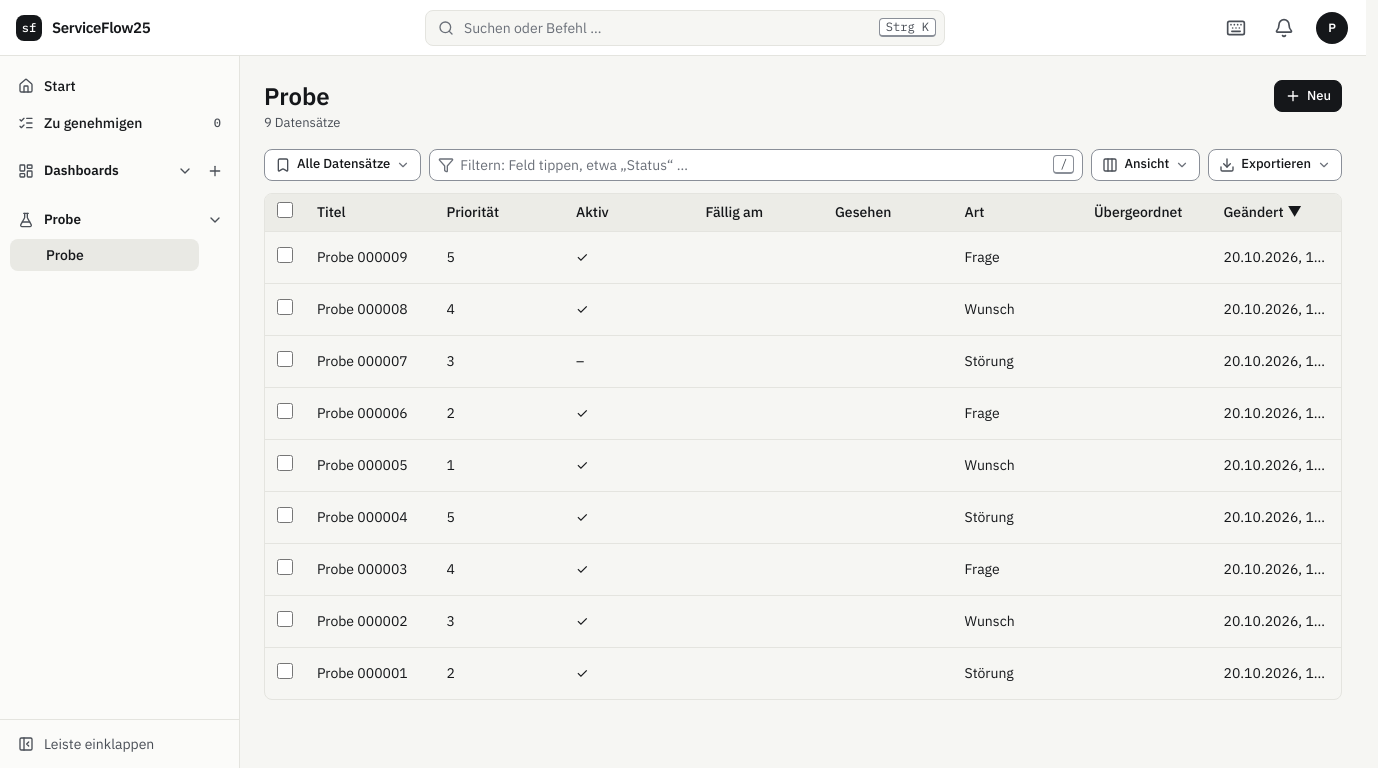
Test: FilterRow › takes roles with mir and periods as time words
Expected: the text "9 Datensätze" is shown, [264,114,340,133]
Click the dropdown with placeholder "Filtern: Feld tippen, etwa „Status“ …".
click(755, 165)  # box [460,150,1049,180]
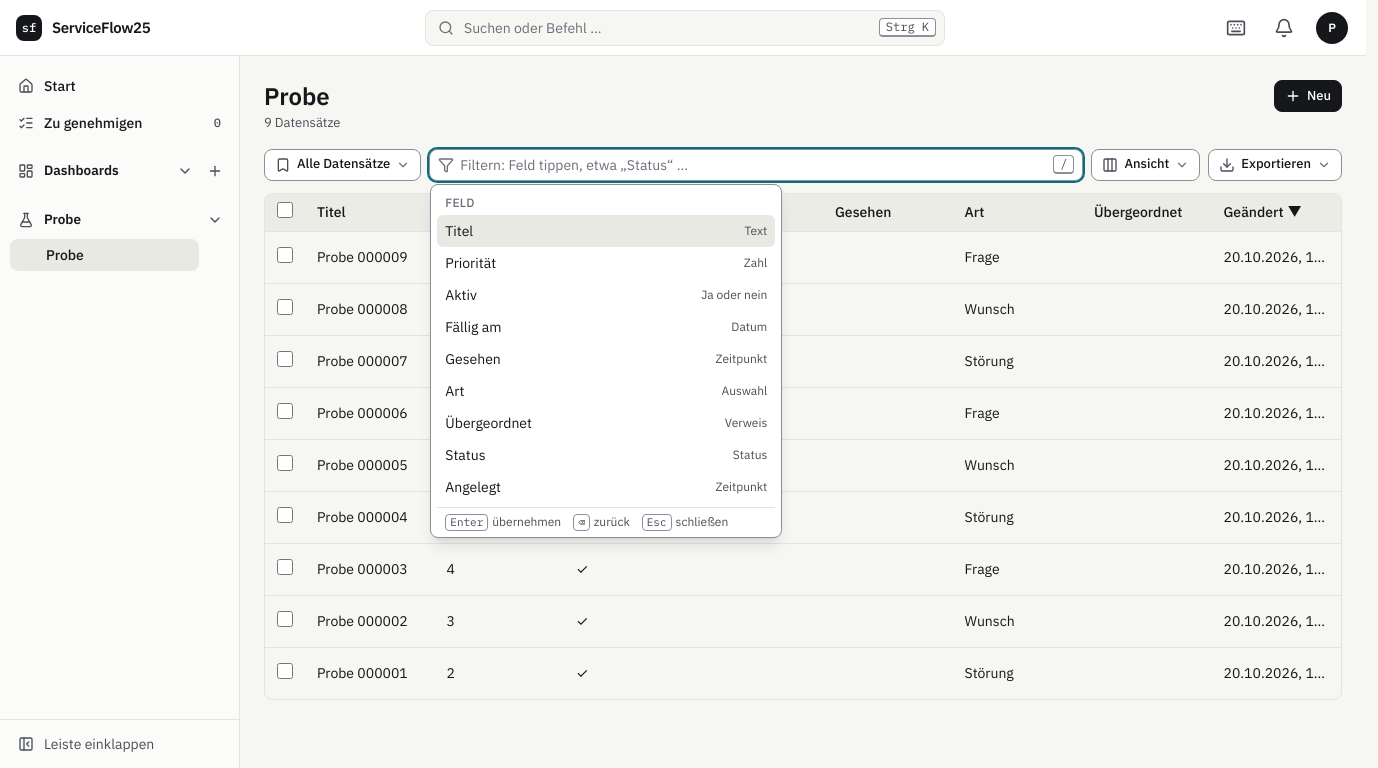
# A role: "mir" (UI51).
Type keys "anford{Enter}mir{Enter}"
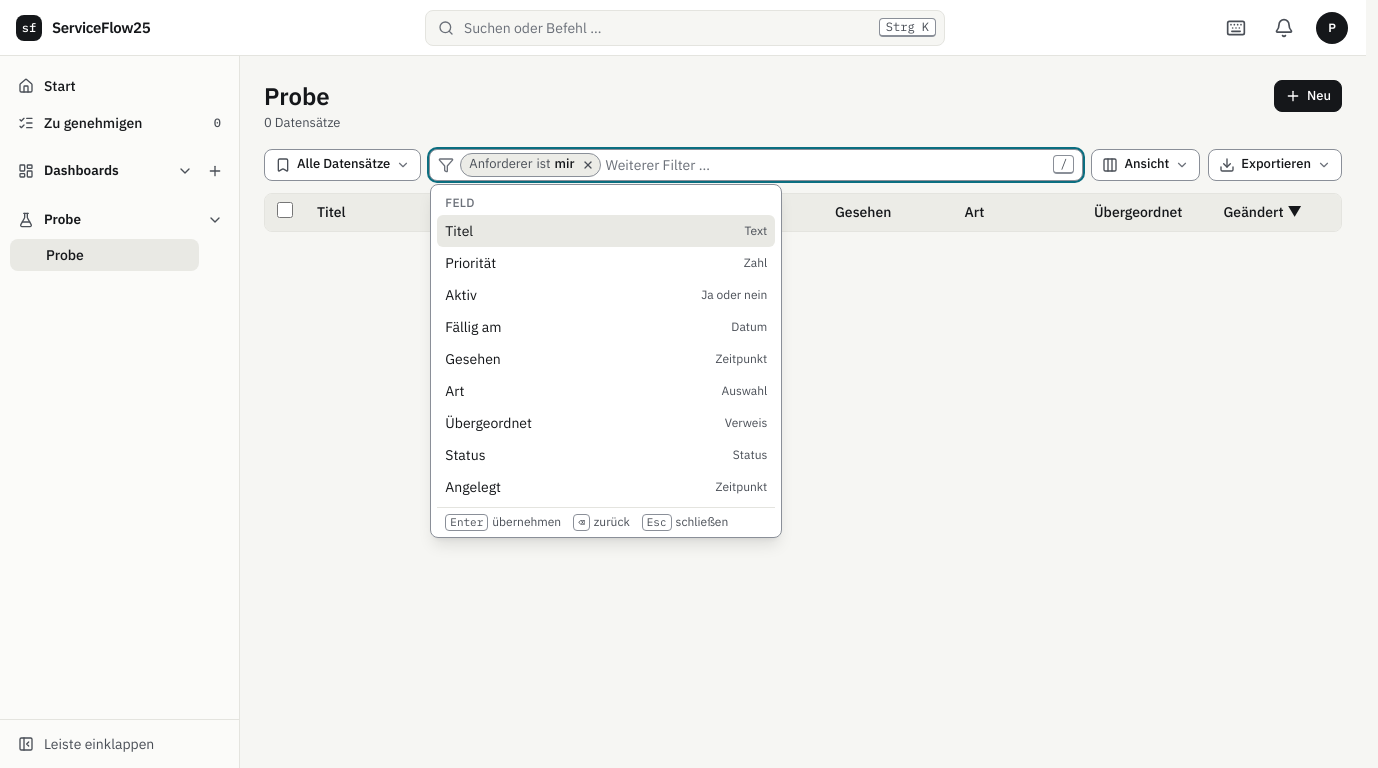
Result: the button "Anforderer ist mir" is shown at [461,153,576,177]
# "angelegt", Enter, "letzte 5 t", Enter: a period that runs with the clock.
Type keys "angel{Enter}letzte 5 t{Enter}"
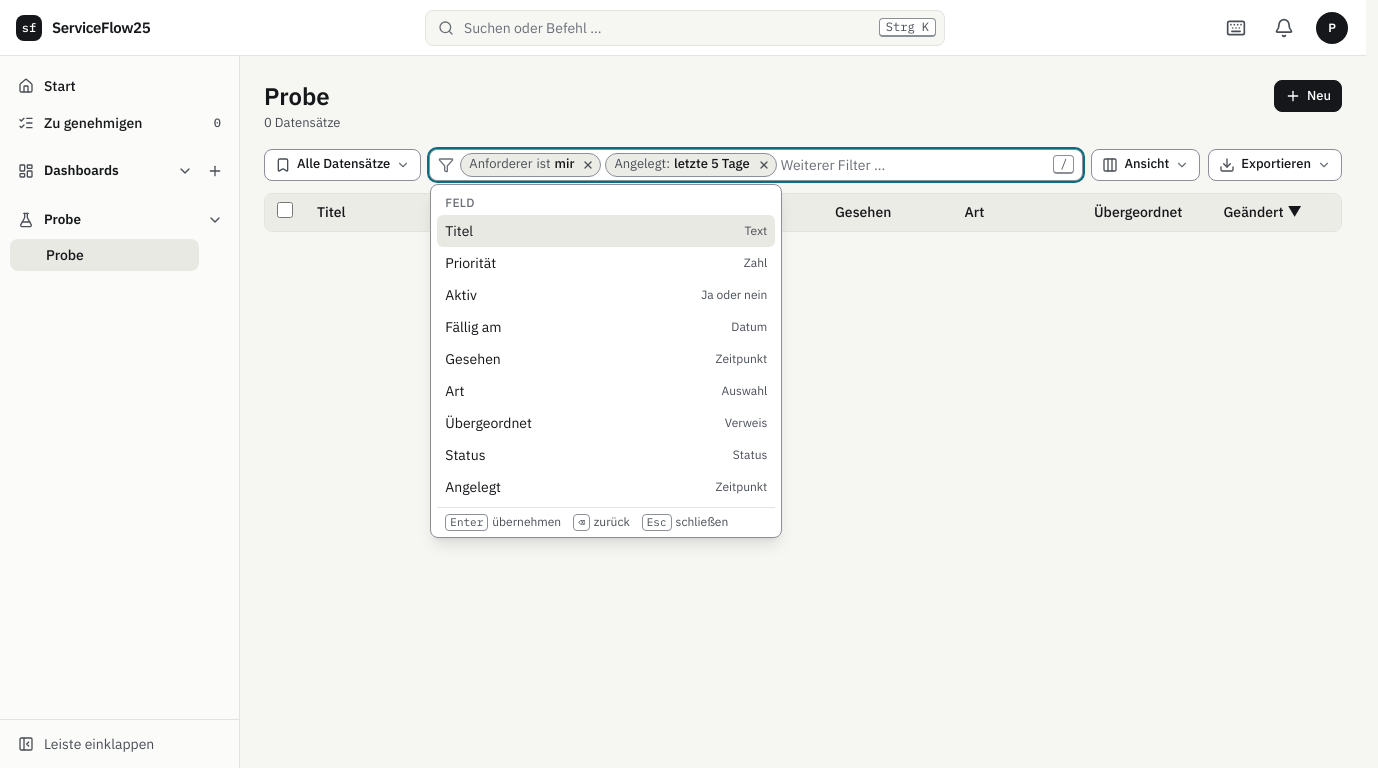
Result: the button "Angelegt: letzte 5 Tage" is shown at [606,153,752,177]
# A suggested one: "gestern" is two comparisons.
Type keys "geänd{Enter}gest{Enter}"
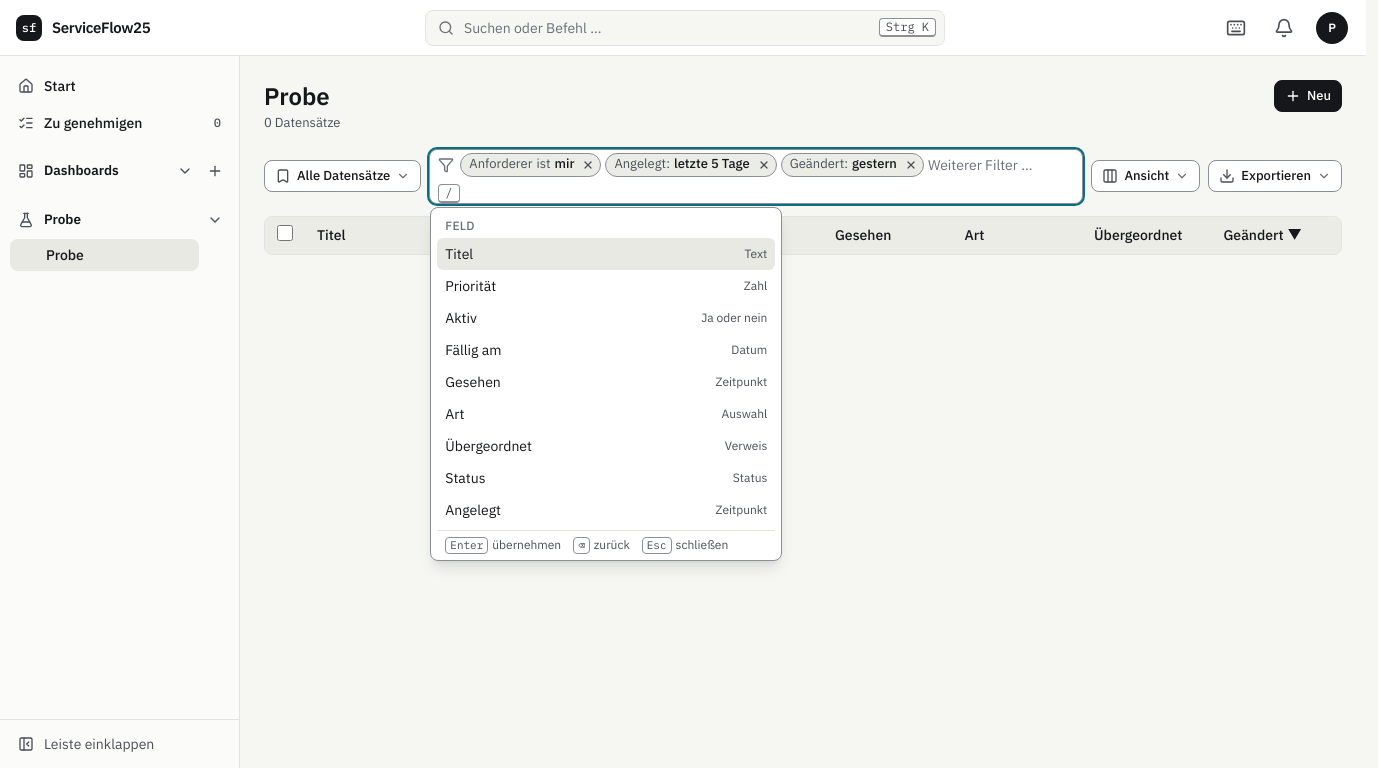
Result: the button "Geändert: gestern" is shown at [782,153,899,177]
# "ab" a day: arrow left, "ab", the day typed.
Type keys "gesehen{Enter}{ArrowLeft}ab{Enter}1.11.2026{Enter}"
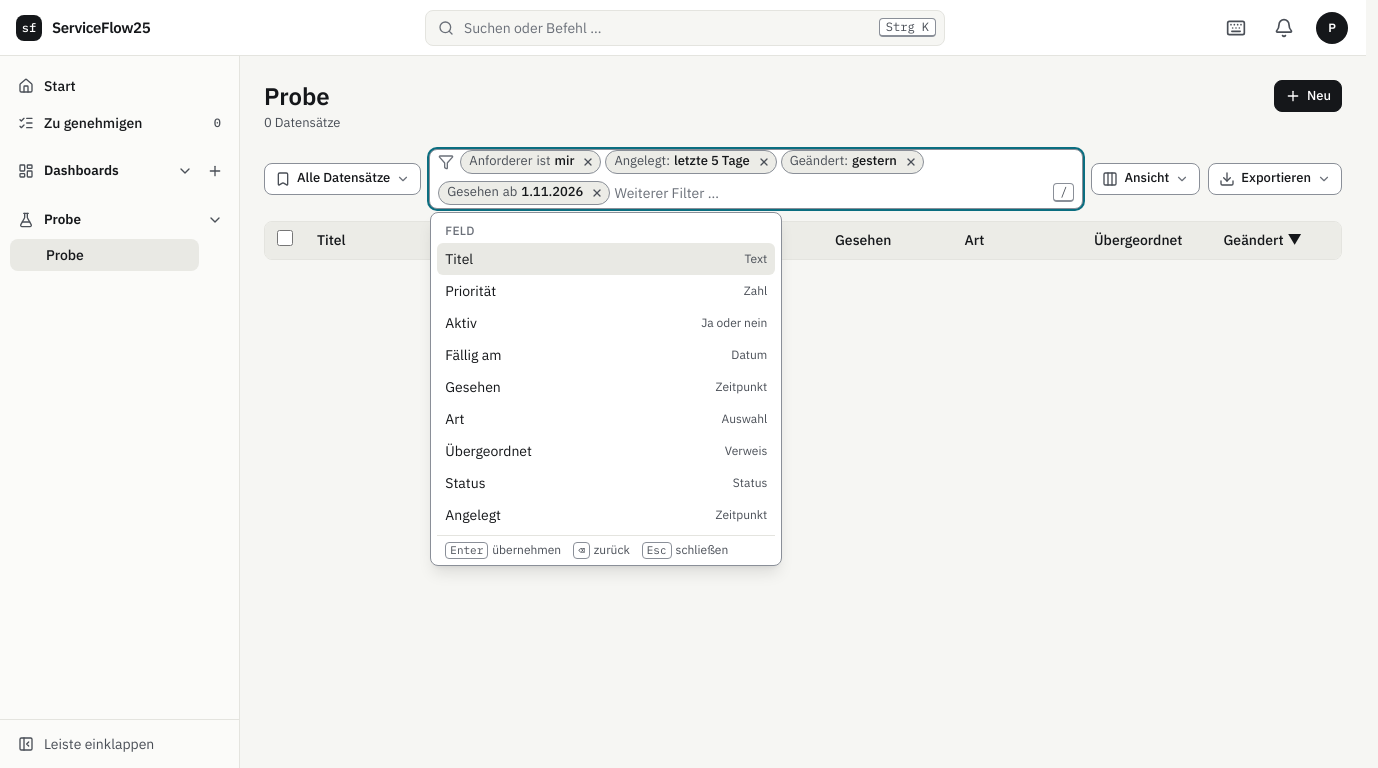
Result: the button "Gesehen ab 1.11.2026" is shown at [439,181,585,205]
